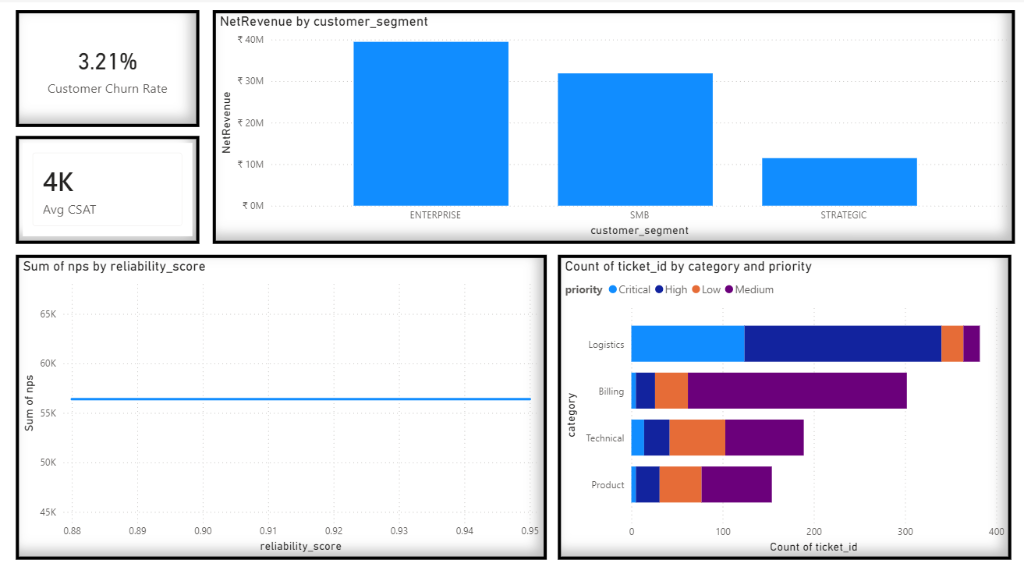

Layout of this report page (visuals, bound fields, positions):
{"tool":"powerbi","page":{"name":"Customer Success","canvas":[1280,720],"ordinal":3},"visuals":[{"type":"barChart","fields":{"Series":["customer_support.priority"],"Category":["customer_support.category"],"Y":["Count(customer_support.ticket_id)"]},"box":[694.3,318.6,571.4,384.3],"z":0},{"type":"lineChart","fields":{"Category":["suppliers.reliability_score"],"Y":["Sum(daily_business_metrics.nps)"]},"box":[11.4,318.6,668.6,384.3],"z":2},{"type":"clusteredColumnChart","fields":{"Category":["customers.customer_segment"],"Y":["_Measures (2).NetRevenue"]},"box":[258.6,10,1010,294.3],"z":3},{"type":"card","fields":{"Values":["_Measures (2).CustomerChurnRatePct"]},"box":[11.4,10,231.4,147.1],"z":4},{"type":"cardVisual","fields":{"Data":["Sum(customer_support.satisfaction_score)"]},"box":[11.4,168.6,231.4,135.7],"z":5}]}

Visuals, with their boxes in screenshot pixels (x1, y1, x2, y2), scaled from the page's 1280x720 canvas onto the 1024x570 screenshot:
barChart - customer_support.priority x customer_support.category: (555,252,1013,556)
lineChart - suppliers.reliability_score x Sum(daily_business_metrics.nps): (9,252,544,556)
clusteredColumnChart - customers.customer_segment x _Measures (2).NetRevenue: (207,8,1015,241)
card - _Measures (2).CustomerChurnRatePct: (9,8,194,124)
cardVisual - Sum(customer_support.satisfaction_score): (9,133,194,241)
